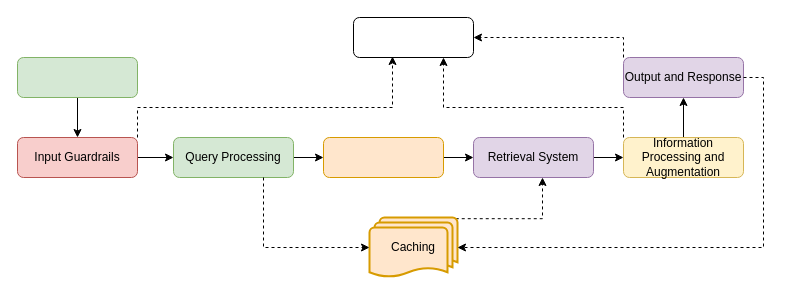
The diagram is 789 pixels wide and 296 high, and some of its shapes have lost their labels. Here are the shapes that lost their labels. From the top down, the centre of each, then its label:
At point (413, 37): "Observability and Feedback".
At point (77, 77): "User Authentication and Input".
At point (383, 157): "Data Preparation and Management".
